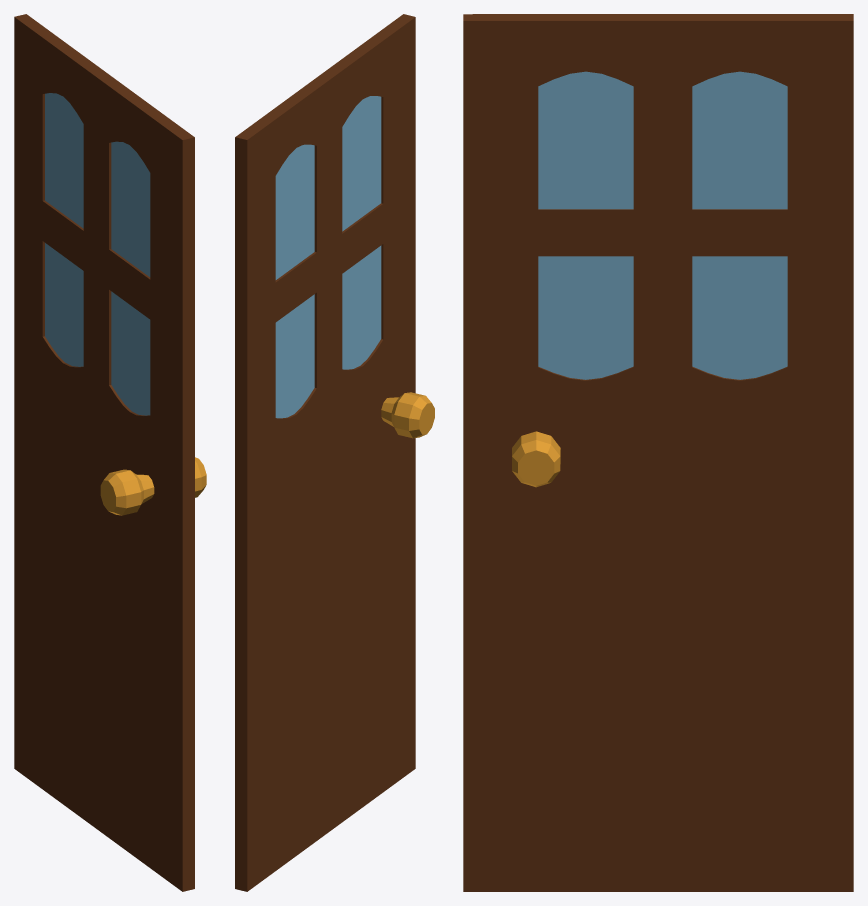
The model's file is Door3.fbx.
The picture shows the model from 3 angles, left to right: view 1: azimuth 30°, elevation 25°; view 2: azimuth 150°, elevation 25°; view 3: azimuth 270°, elevation 25°; orthographic projection. The views are drawn at different scales.
Parts seen in each view (by area): view 1: Door3; view 2: Door3; view 3: Door3.
Boxes of the visible parts, x1,y1,x2,y2 form: Door3: [14, 14, 206, 891]; Door3: [235, 14, 434, 891]; Door3: [463, 14, 853, 891].
Size of the model in its own units: 25.26 by 200 by 81.29.
